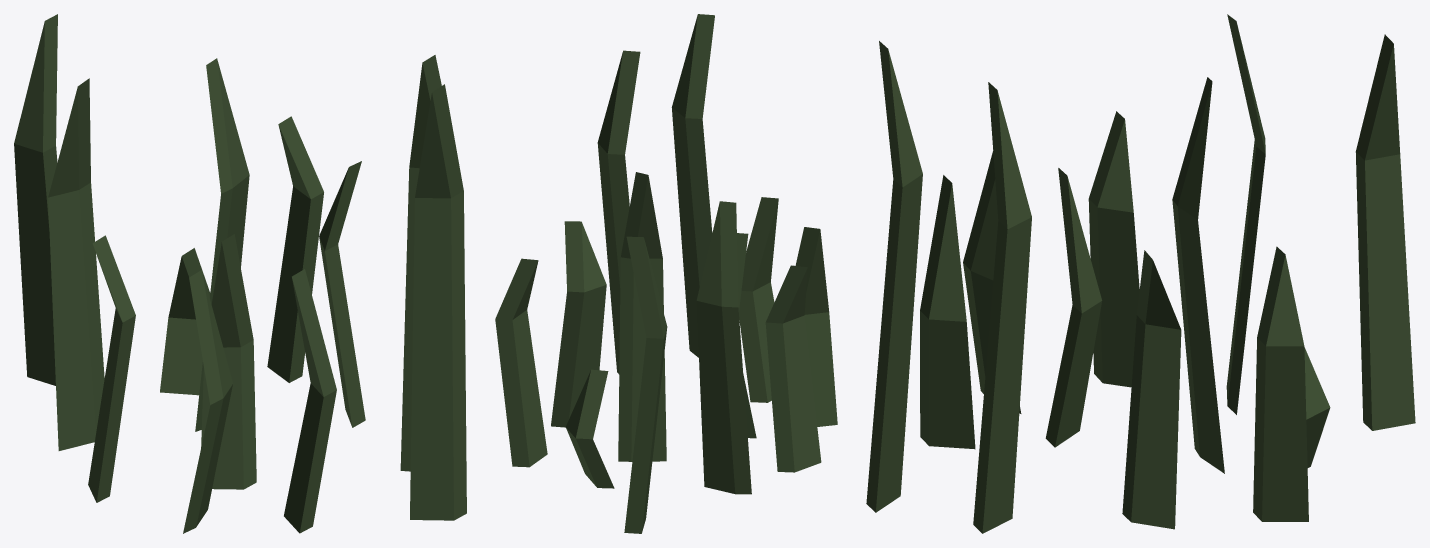
Rendered from Grass_Short.glb.
3 renders of one model, left to right at view 1: azimuth 30°, elevation 25°; view 2: azimuth 150°, elevation 25°; view 3: azimuth 270°, elevation 25°, orthographic. The views are drawn at different scales.
Parts seen in each view (by area): view 1: Grass_Short; view 2: Grass_Short; view 3: Grass_Short.
Part boxes in pixels (x1,y1,x2,y2): Grass_Short: (14, 14, 466, 533); Grass_Short: (495, 14, 837, 533); Grass_Short: (866, 14, 1415, 533).
Size of the model in its own units: 0.3162 by 0.4046 by 0.4417.
